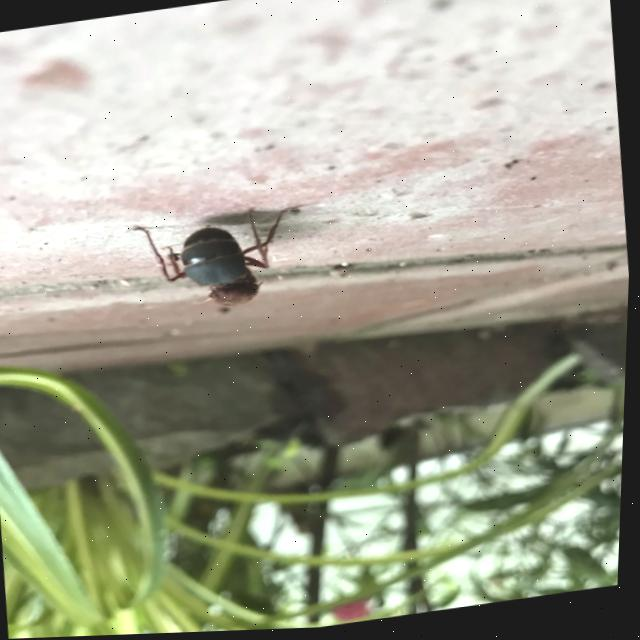Alive-Female-Dealate: (127, 201, 320, 323)
